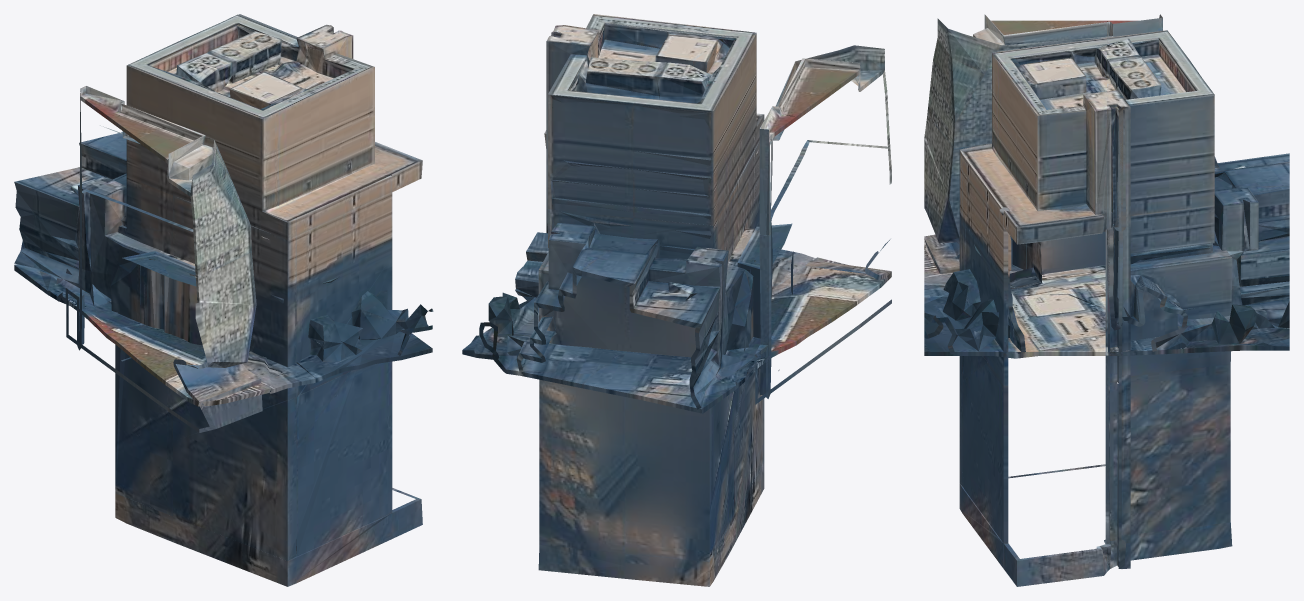
Rendered from chunk_-1_-5.glb.
3 views of the same model, side by side, from view 1: azimuth 30°, elevation 25°; view 2: azimuth 150°, elevation 25°; view 3: azimuth 270°, elevation 25° (orthographic). The views are drawn at different scales.
Visible parts, largest first — view 1: hero-chunk; view 2: hero-chunk; view 3: hero-chunk.
Part boxes in pixels (x1,y1,x2,y2): hero-chunk: (14,14,433,586); hero-chunk: (462,14,891,586); hero-chunk: (924,14,1289,586).
Bounding box in the file's own units: 65.24 × 107 × 76.32.
Materials: 6 (6 with a texture image).
